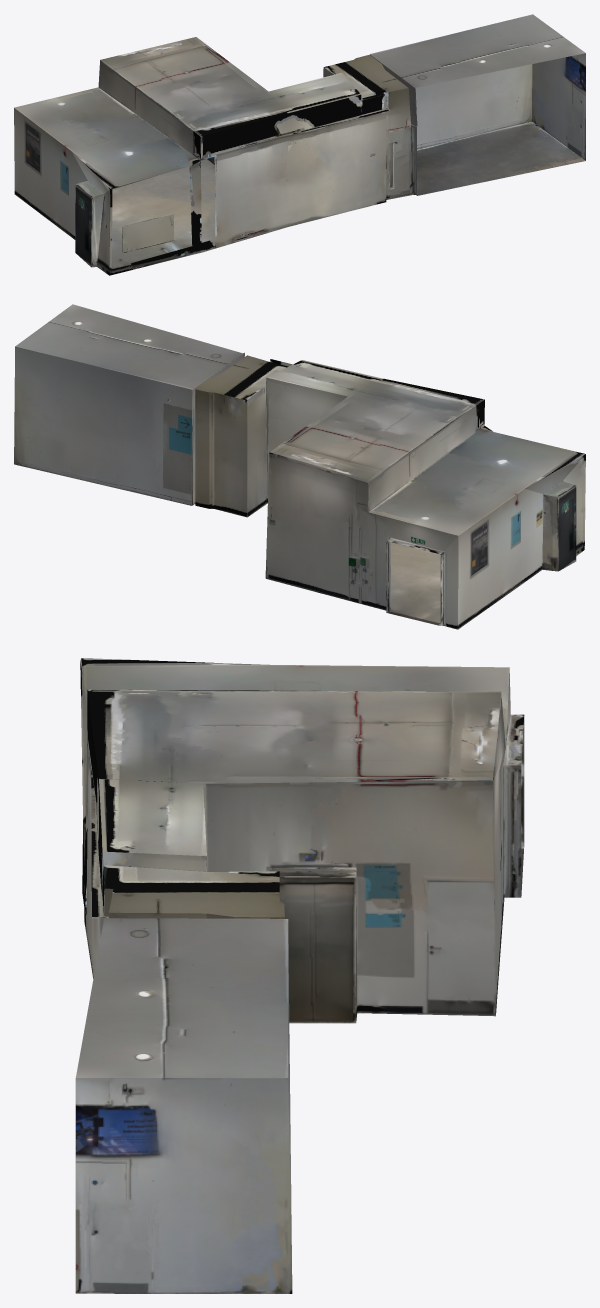
File: main-to-Wblock.fbx
3 views of the same model, one above another, from view 1: azimuth 30°, elevation 25°; view 2: azimuth 150°, elevation 25°; view 3: azimuth 270°, elevation 25° (orthographic). The views are drawn at different scales.
Visible parts, largest first — view 1: main-to-Wblock; view 2: main-to-Wblock; view 3: main-to-Wblock.
Part boxes in pixels (<box>): main-to-Wblock: <box>14,14,585,275</box>; main-to-Wblock: <box>14,304,585,629</box>; main-to-Wblock: <box>75,658,524,1293</box>.
Bounding box in the file's own units: 1526 × 360 × 618.
Materials: 1 (1 with a texture image).
